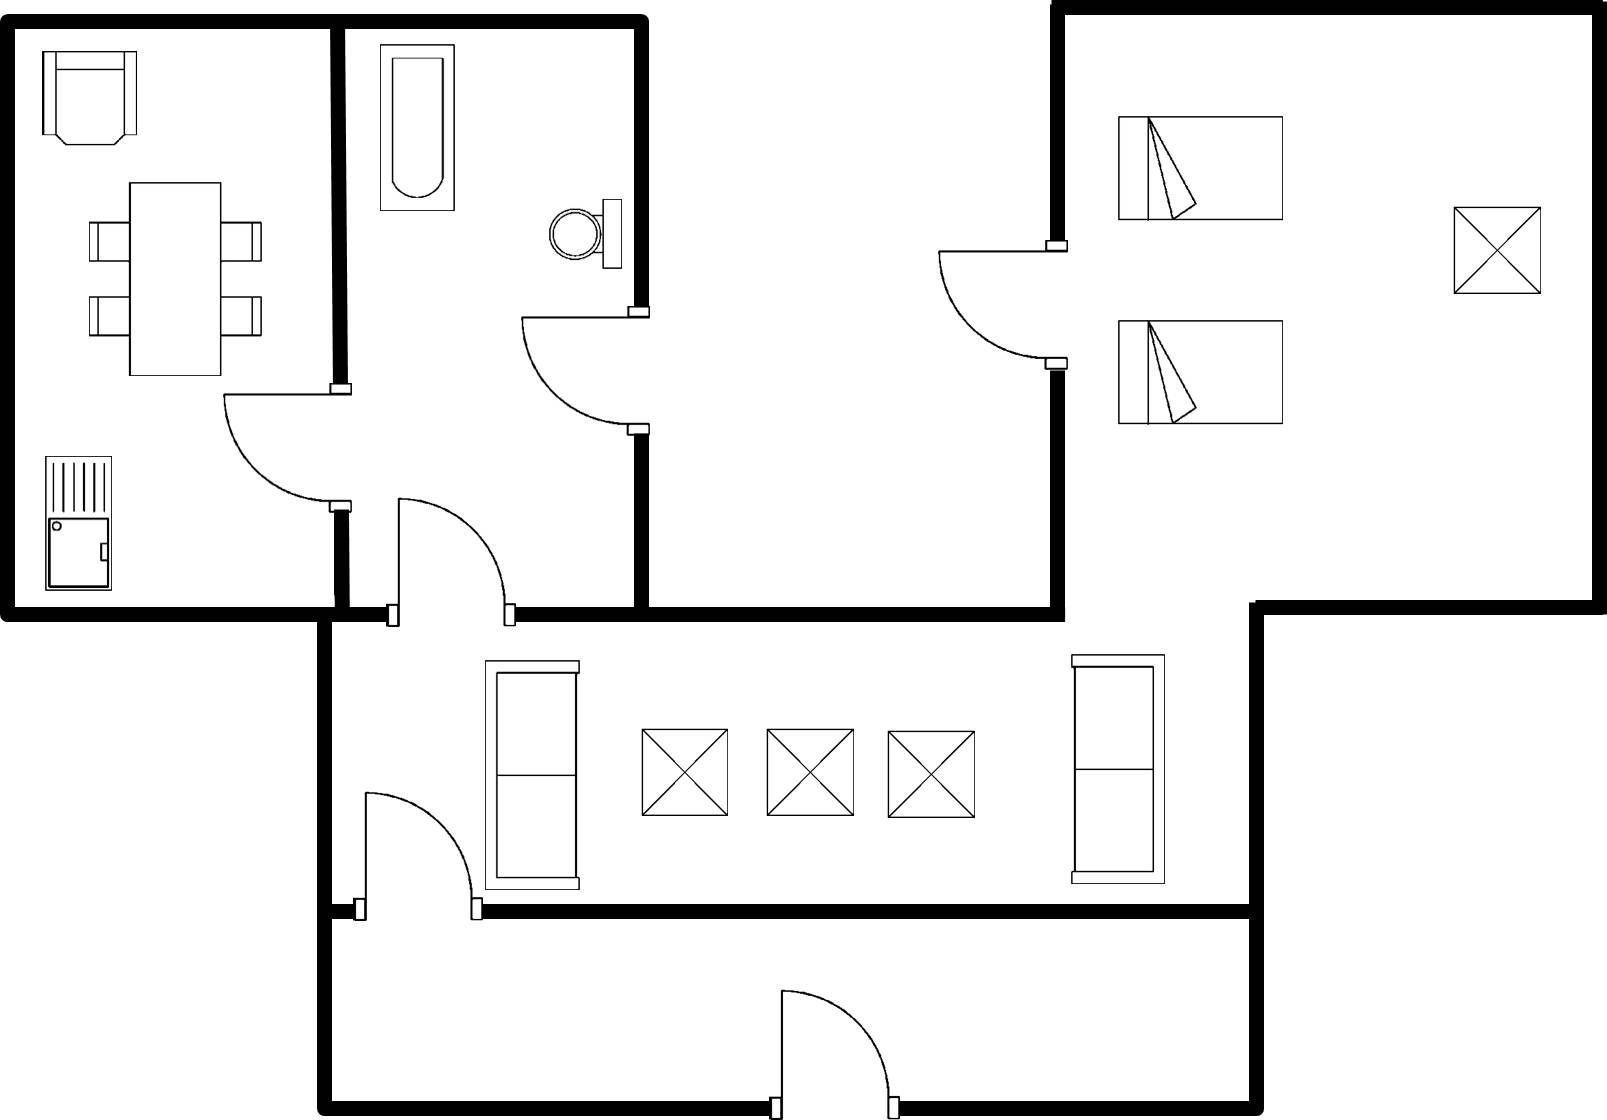armchair: (35, 42, 146, 157)
bed: (1111, 110, 1293, 233), (1112, 311, 1292, 436)
coffee_table: (1440, 197, 1553, 306), (631, 719, 740, 828), (754, 722, 865, 825), (881, 721, 983, 826)
dining_table: (81, 174, 270, 387)
large_sink: (537, 189, 628, 277)
large_sofa: (475, 651, 590, 897), (1062, 645, 1173, 896)
sink: (37, 446, 120, 597)
tub: (371, 35, 463, 219)
